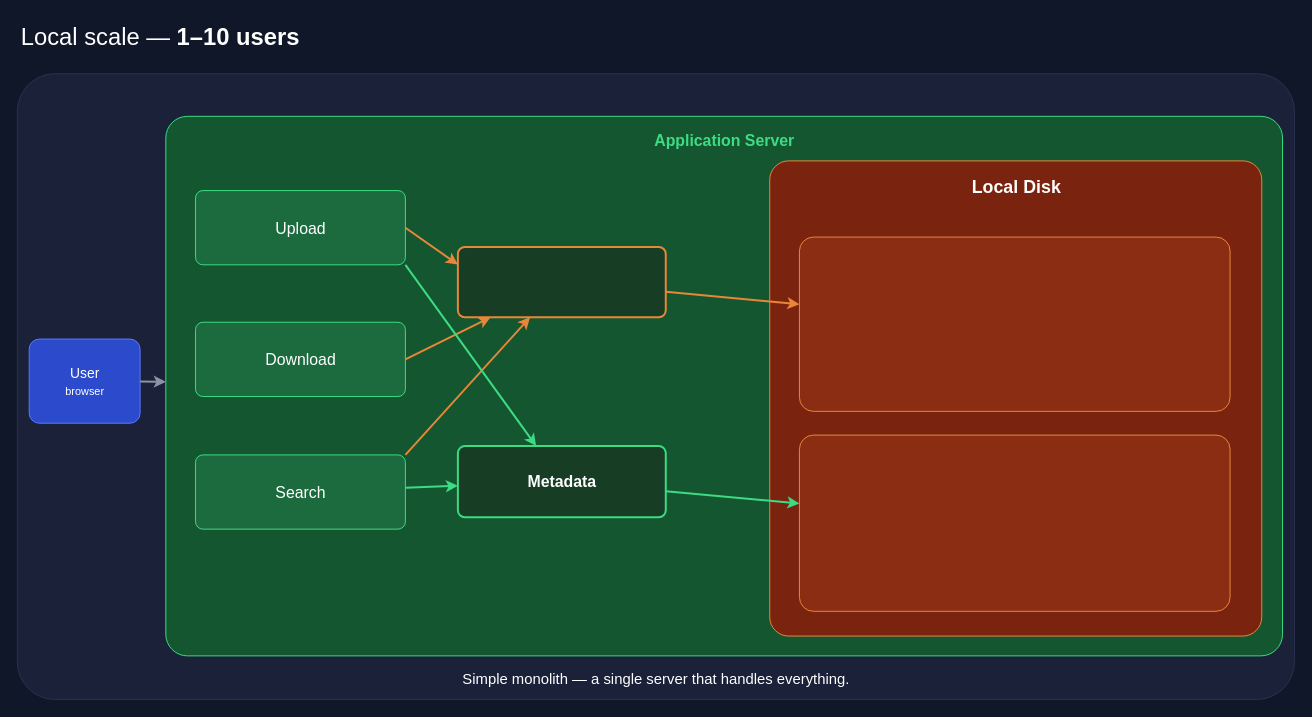
The diagram is 1312 pixels wide and 717 high, and some of its shapes have lost their labels. Here are the shapes that lost their labels. From the top down, the centre of each, then its label:
the point at 561,282: Storage
the point at 1014,323: / images d82431...6075a.jpg 3c7215...b3c5e.jpg ...
the point at 1014,522: /metadata { id, tags, size, upload_time ... } ...
